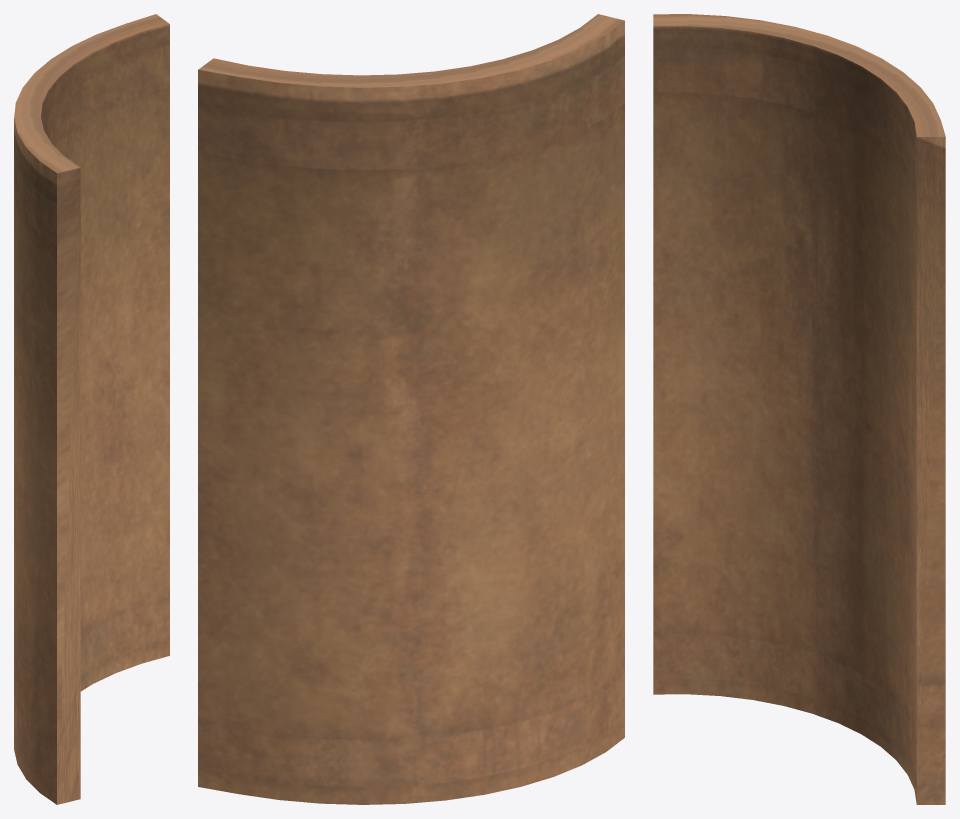
Rendered from Wall_1_G.fbx.
3 renders of one model, left to right at view 1: azimuth 30°, elevation 25°; view 2: azimuth 150°, elevation 25°; view 3: azimuth 270°, elevation 25°, orthographic. The views are drawn at different scales.
Parts seen in each view (by area): view 1: Wall_1_G; view 2: Wall_1_G; view 3: Wall_1_G.
Part boxes in pixels (left/top/right/bottom): Wall_1_G: left=14, top=14, right=169, bottom=804; Wall_1_G: left=198, top=14, right=624, bottom=804; Wall_1_G: left=653, top=14, right=945, bottom=804.
Size of the model in its own units: 1 by 2.53 by 1.01.
